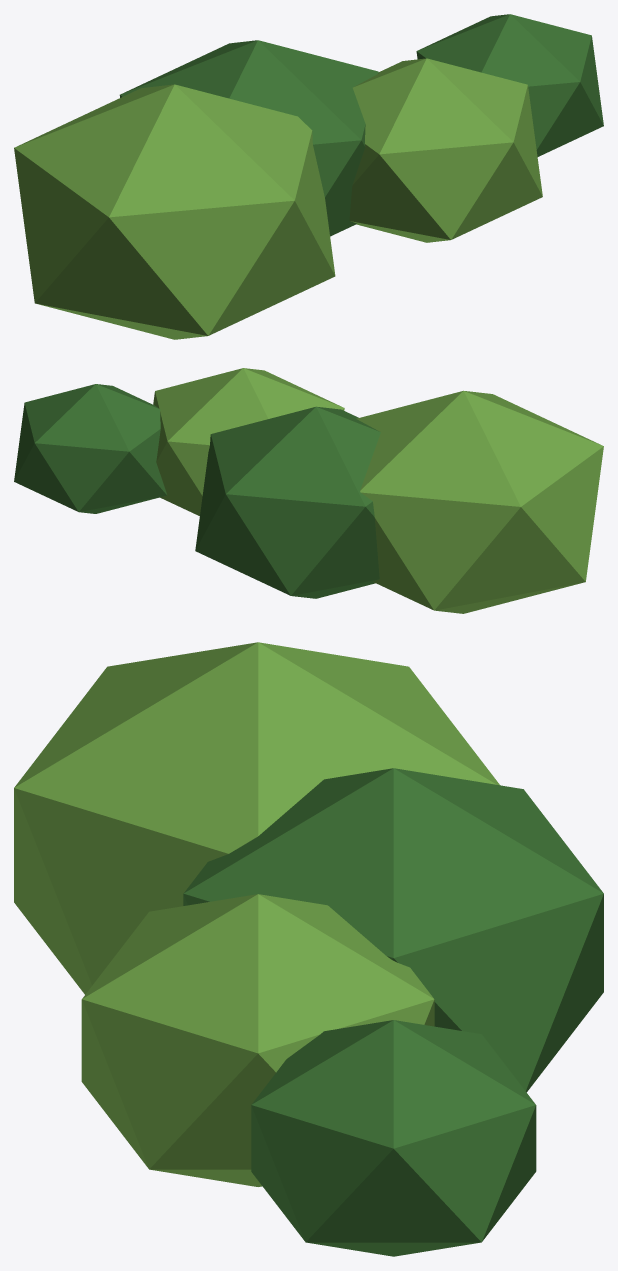
The model's file is VG_Tree_Shrub.fbx.
The picture shows the model from 3 angles, top to bottom: view 1: azimuth 30°, elevation 25°; view 2: azimuth 150°, elevation 25°; view 3: azimuth 270°, elevation 25°; orthographic projection. The views are drawn at different scales.
Parts seen in each view (by area): view 1: VG_Tree_Shrub_Mesh; view 2: VG_Tree_Shrub_Mesh; view 3: VG_Tree_Shrub_Mesh.
Part boxes in pixels (x1,y1,x2,y2): VG_Tree_Shrub_Mesh: [14, 14, 603, 339]; VG_Tree_Shrub_Mesh: [14, 368, 603, 613]; VG_Tree_Shrub_Mesh: [14, 642, 603, 1256].
Bounding box in the file's own units: 2.76 × 1.12 × 1.48.
